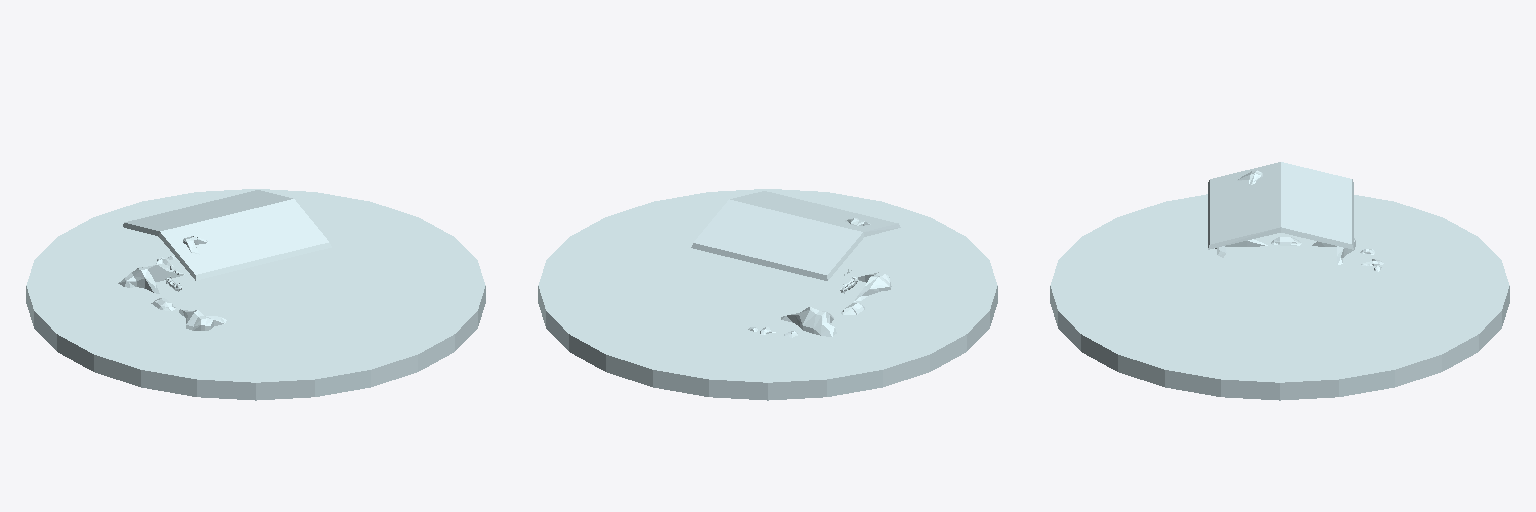
The model's file is Snow.obj.
3 views of the same model, side by side, from view 1: azimuth 30°, elevation 25°; view 2: azimuth 150°, elevation 25°; view 3: azimuth 270°, elevation 25° (orthographic).
Visible parts, largest first — view 1: Snow; view 2: Snow; view 3: Snow.
Part boxes in pixels (x1,y1,x2,y2): Snow: (26,189,485,400); Snow: (538,189,997,400); Snow: (1050,162,1509,400).
Size of the model in its own units: 191 by 43.68 by 191.